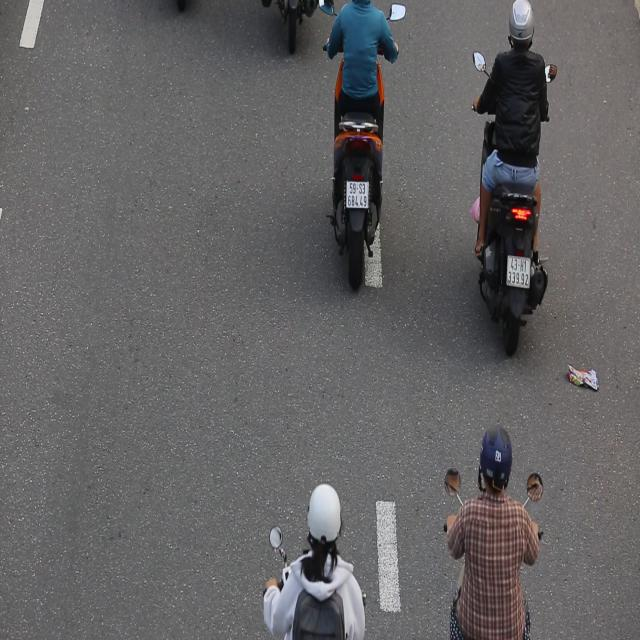motorbike: (468, 1, 566, 370)
